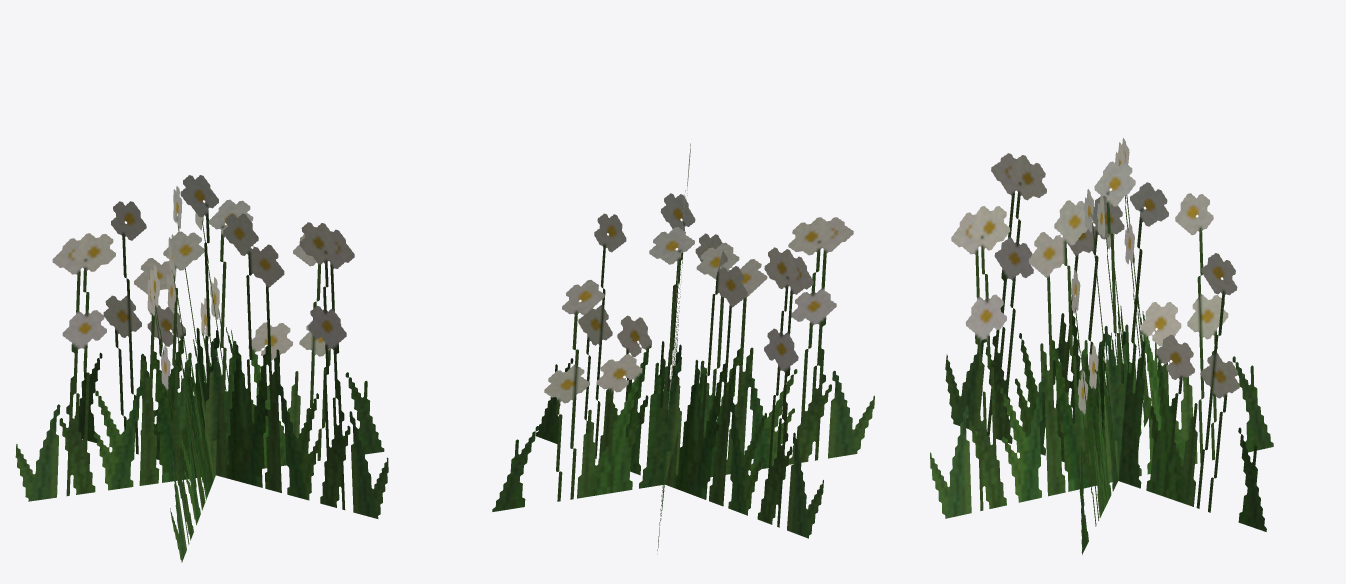
File: FOLIAGE_Flowers_White_01.fbx
The picture shows the model from 3 angles, left to right: view 1: azimuth 30°, elevation 25°; view 2: azimuth 150°, elevation 25°; view 3: azimuth 270°, elevation 25°; orthographic projection. The views are drawn at different scales.
Visible parts, largest first — view 1: FOLIAGE_Flowers_White_01; view 2: FOLIAGE_Flowers_White_01; view 3: FOLIAGE_Flowers_White_01.
Boxes of the visible parts, left/top/right/bottom form: FOLIAGE_Flowers_White_01: left=15, top=175, right=388, bottom=562; FOLIAGE_Flowers_White_01: left=492, top=143, right=874, bottom=550; FOLIAGE_Flowers_White_01: left=930, top=138, right=1273, bottom=554.
Bounding box in the file's own units: 0.4863 × 0.5005 × 0.4671.
Materials: 1 (1 with a texture image).
